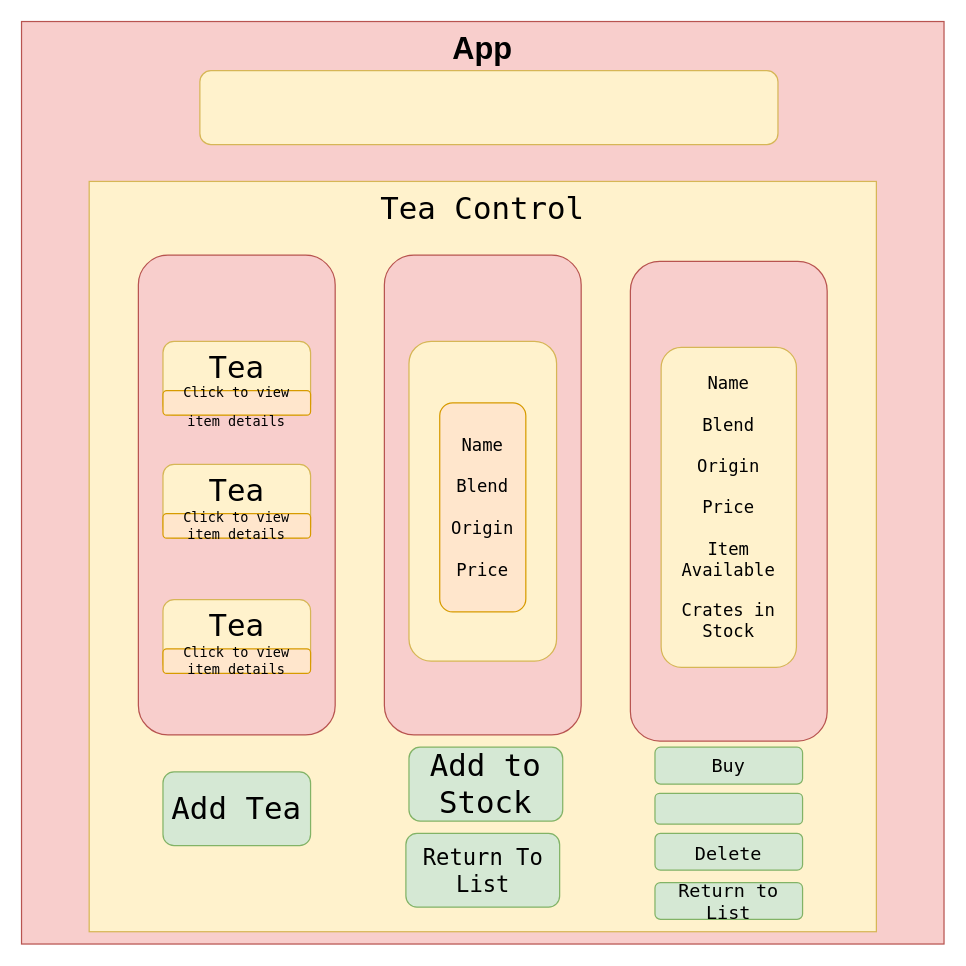
This 966x966 diagram has some shape labels left out. The shapes that lost their labels are listed below. From the top down, each one's box as (x1, y1, x2, y2) in pixels, then its label:
(199, 69, 778, 145): Header
(137, 254, 335, 735): Tea List
(383, 254, 581, 735): New Tea Form
(408, 340, 557, 661): Reusable Form
(629, 260, 827, 741): Tea Details
(654, 792, 803, 824): Update / Edit
